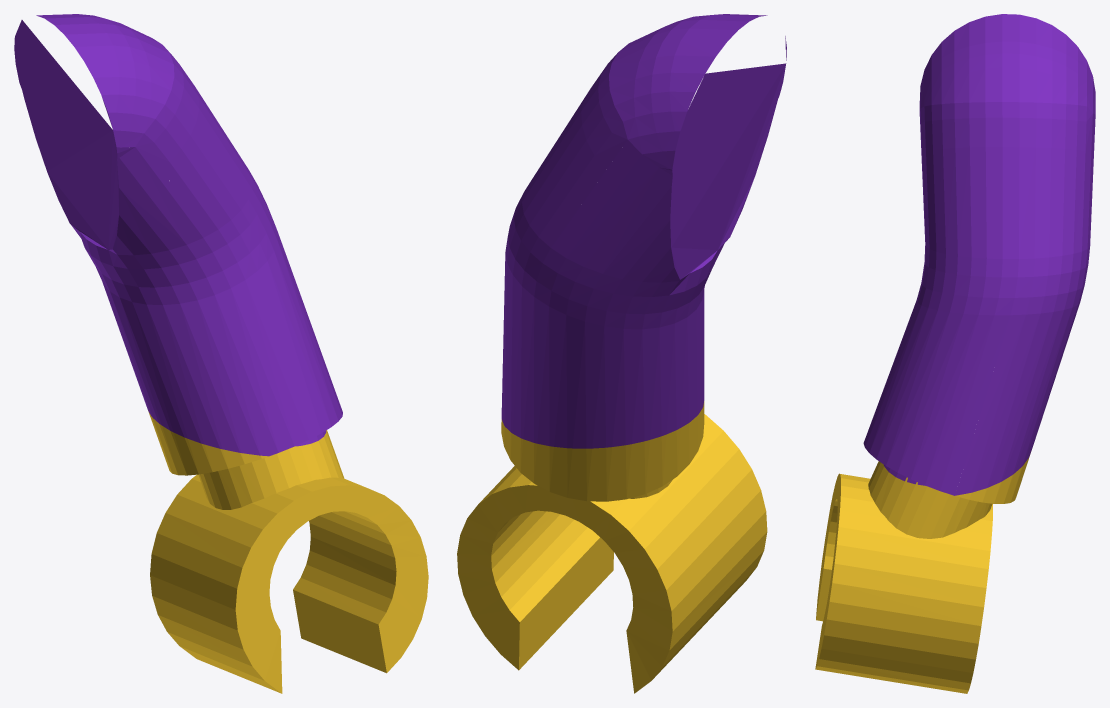
The model's file is armR.glb.
The picture shows the model from 3 angles, left to right: view 1: azimuth 30°, elevation 25°; view 2: azimuth 150°, elevation 25°; view 3: azimuth 270°, elevation 25°; orthographic projection. The views are drawn at different scales.
Parts seen in each view (by area): view 1: dex_armR; view 2: dex_armR; view 3: dex_armR.
Boxes of the visible parts, x1=… form: dex_armR: x1=14, y1=14, x2=428, y2=693; dex_armR: x1=457, y1=14, x2=786, y2=693; dex_armR: x1=815, y1=14, x2=1095, y2=693.
Bounding box in the file's own units: 0.325 × 0.7369 × 0.322.
